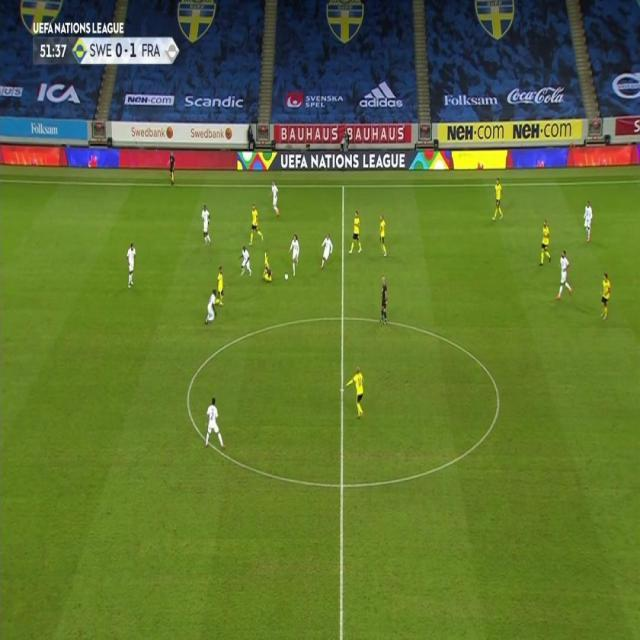ball: (284, 271, 290, 281)
player: (203, 395, 226, 451), (345, 365, 367, 421), (555, 248, 574, 300), (348, 209, 364, 254), (538, 218, 553, 266), (598, 271, 612, 321), (248, 202, 264, 245), (199, 202, 212, 247), (288, 232, 301, 277), (125, 241, 137, 289), (491, 176, 504, 220), (319, 232, 334, 270), (377, 212, 389, 257), (582, 199, 594, 242), (204, 289, 218, 325), (215, 264, 227, 305), (269, 179, 281, 217), (239, 246, 252, 278), (262, 250, 274, 283)
referee: (379, 274, 389, 326), (168, 150, 177, 184)
